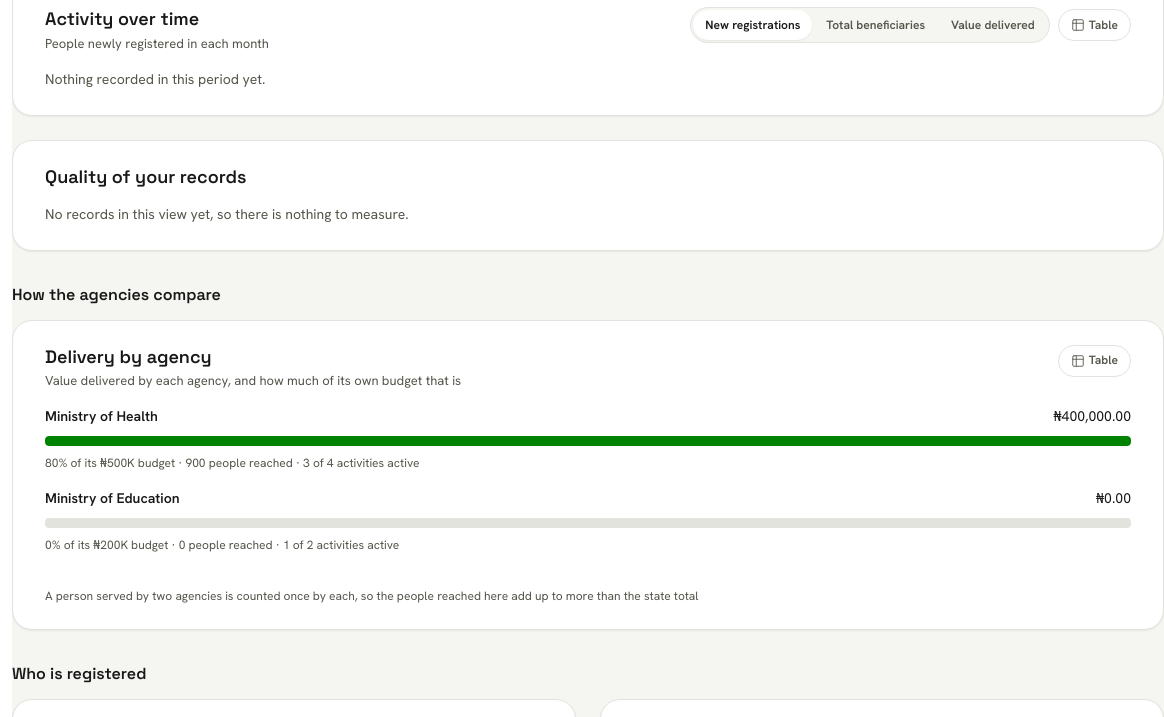
Test: AdminReportsDashboard › offers the comparison as a table too
(page scrolled)
Click the button with aria-label "show delivery by agency as a table".
click(1094, 360)  # box [1058,344,1131,376]
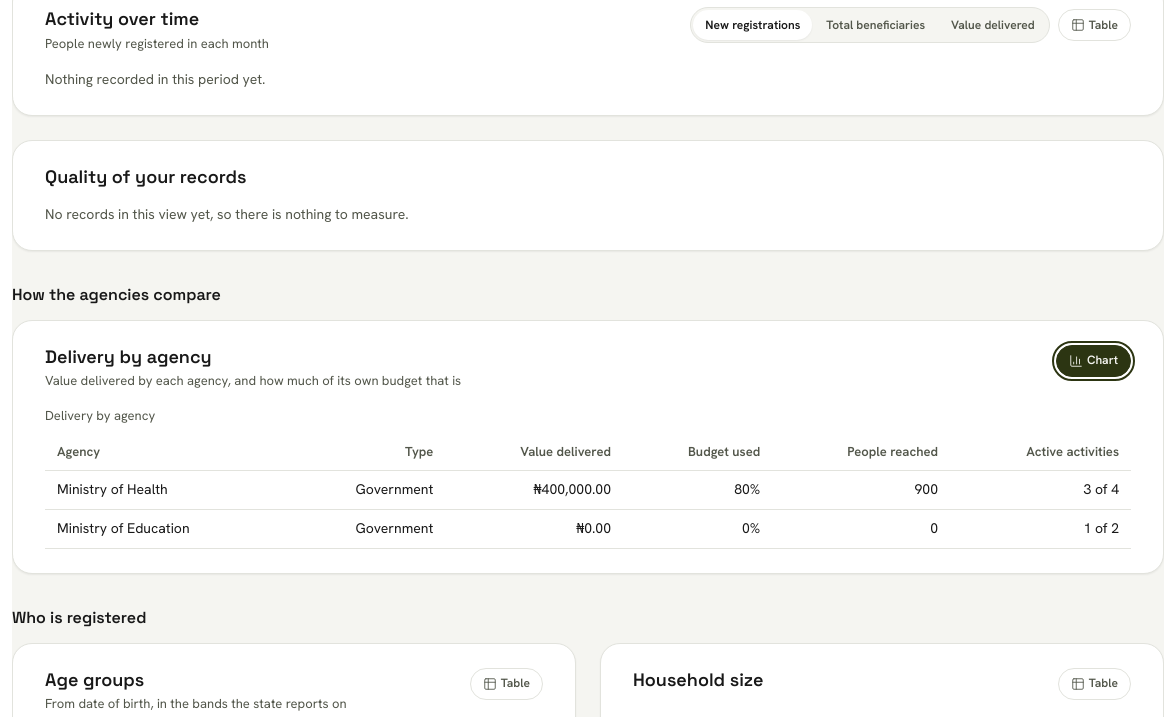
Expected: the text "3 of 4" is shown, [950,471,1131,510]
Expected: the column heading "Budget used" is shown, [623,434,772,471]
